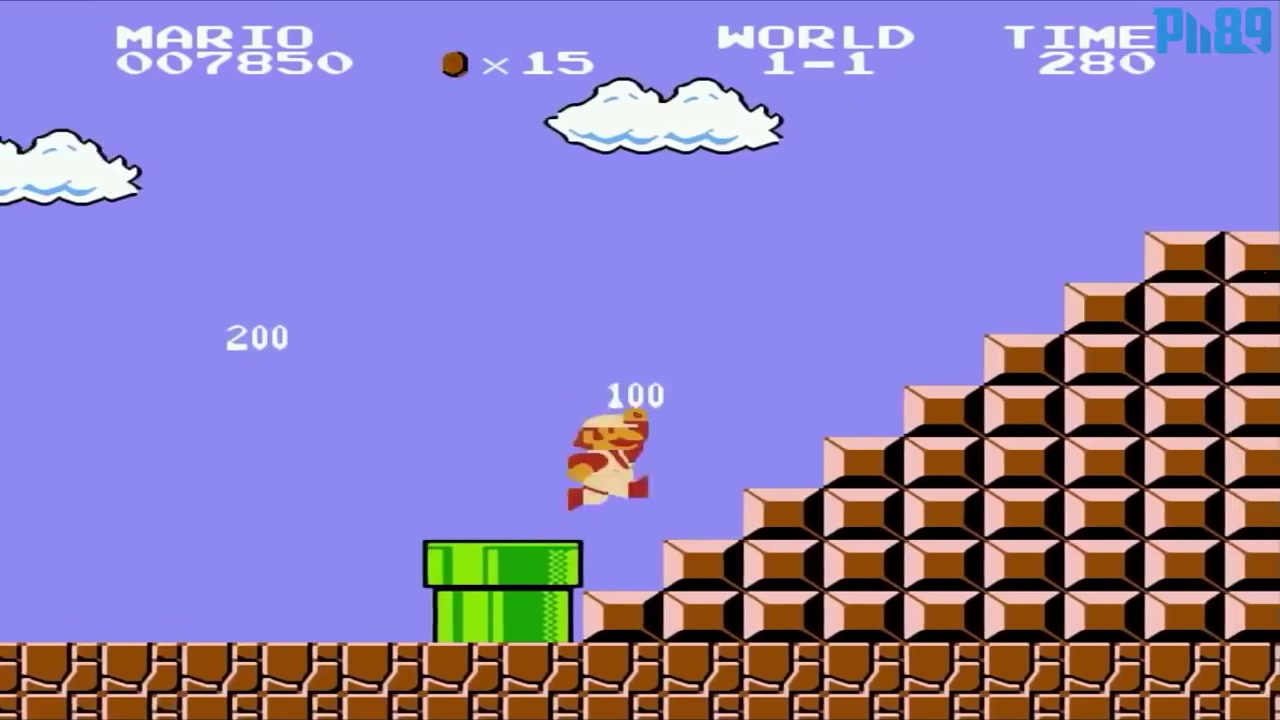mario: (533, 390, 669, 515)
